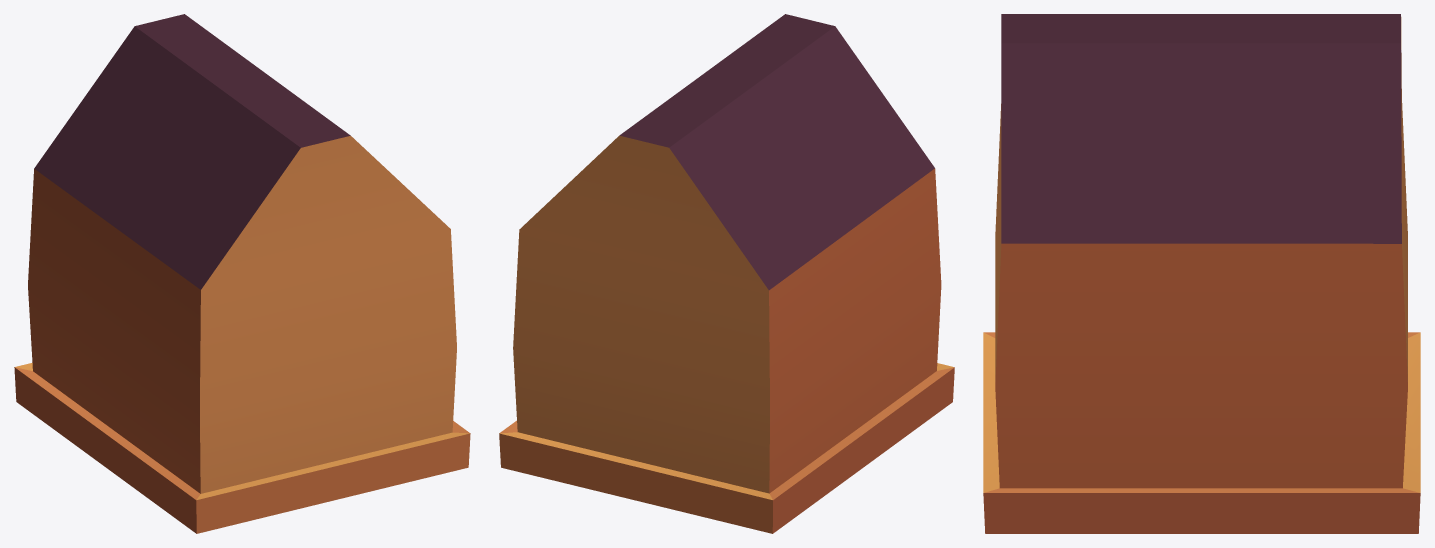
Rendered from House01_Orange_Wood.glb.
The picture shows the model from 3 angles, left to right: view 1: azimuth 30°, elevation 25°; view 2: azimuth 150°, elevation 25°; view 3: azimuth 270°, elevation 25°; orthographic projection. The views are drawn at different scales.
Parts seen in each view (by area): view 1: House01_Orange_Wood; view 2: House01_Orange_Wood; view 3: House01_Orange_Wood.
Part boxes in pixels (left/top/right/bottom): House01_Orange_Wood: left=14, top=14, right=470, bottom=533; House01_Orange_Wood: left=499, top=14, right=954, bottom=533; House01_Orange_Wood: left=983, top=14, right=1420, bottom=533.
Size of the model in its own units: 2.04 by 2.51 by 2.34.
1 material, 1 textured.
